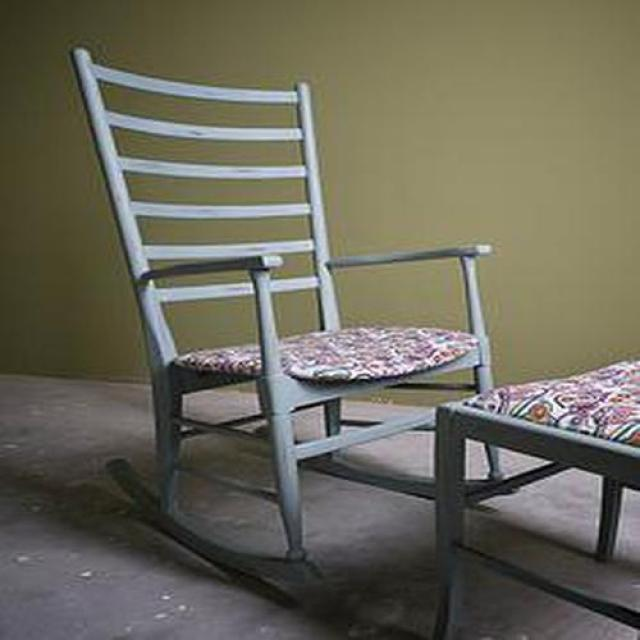chair: (70, 47, 495, 562)
